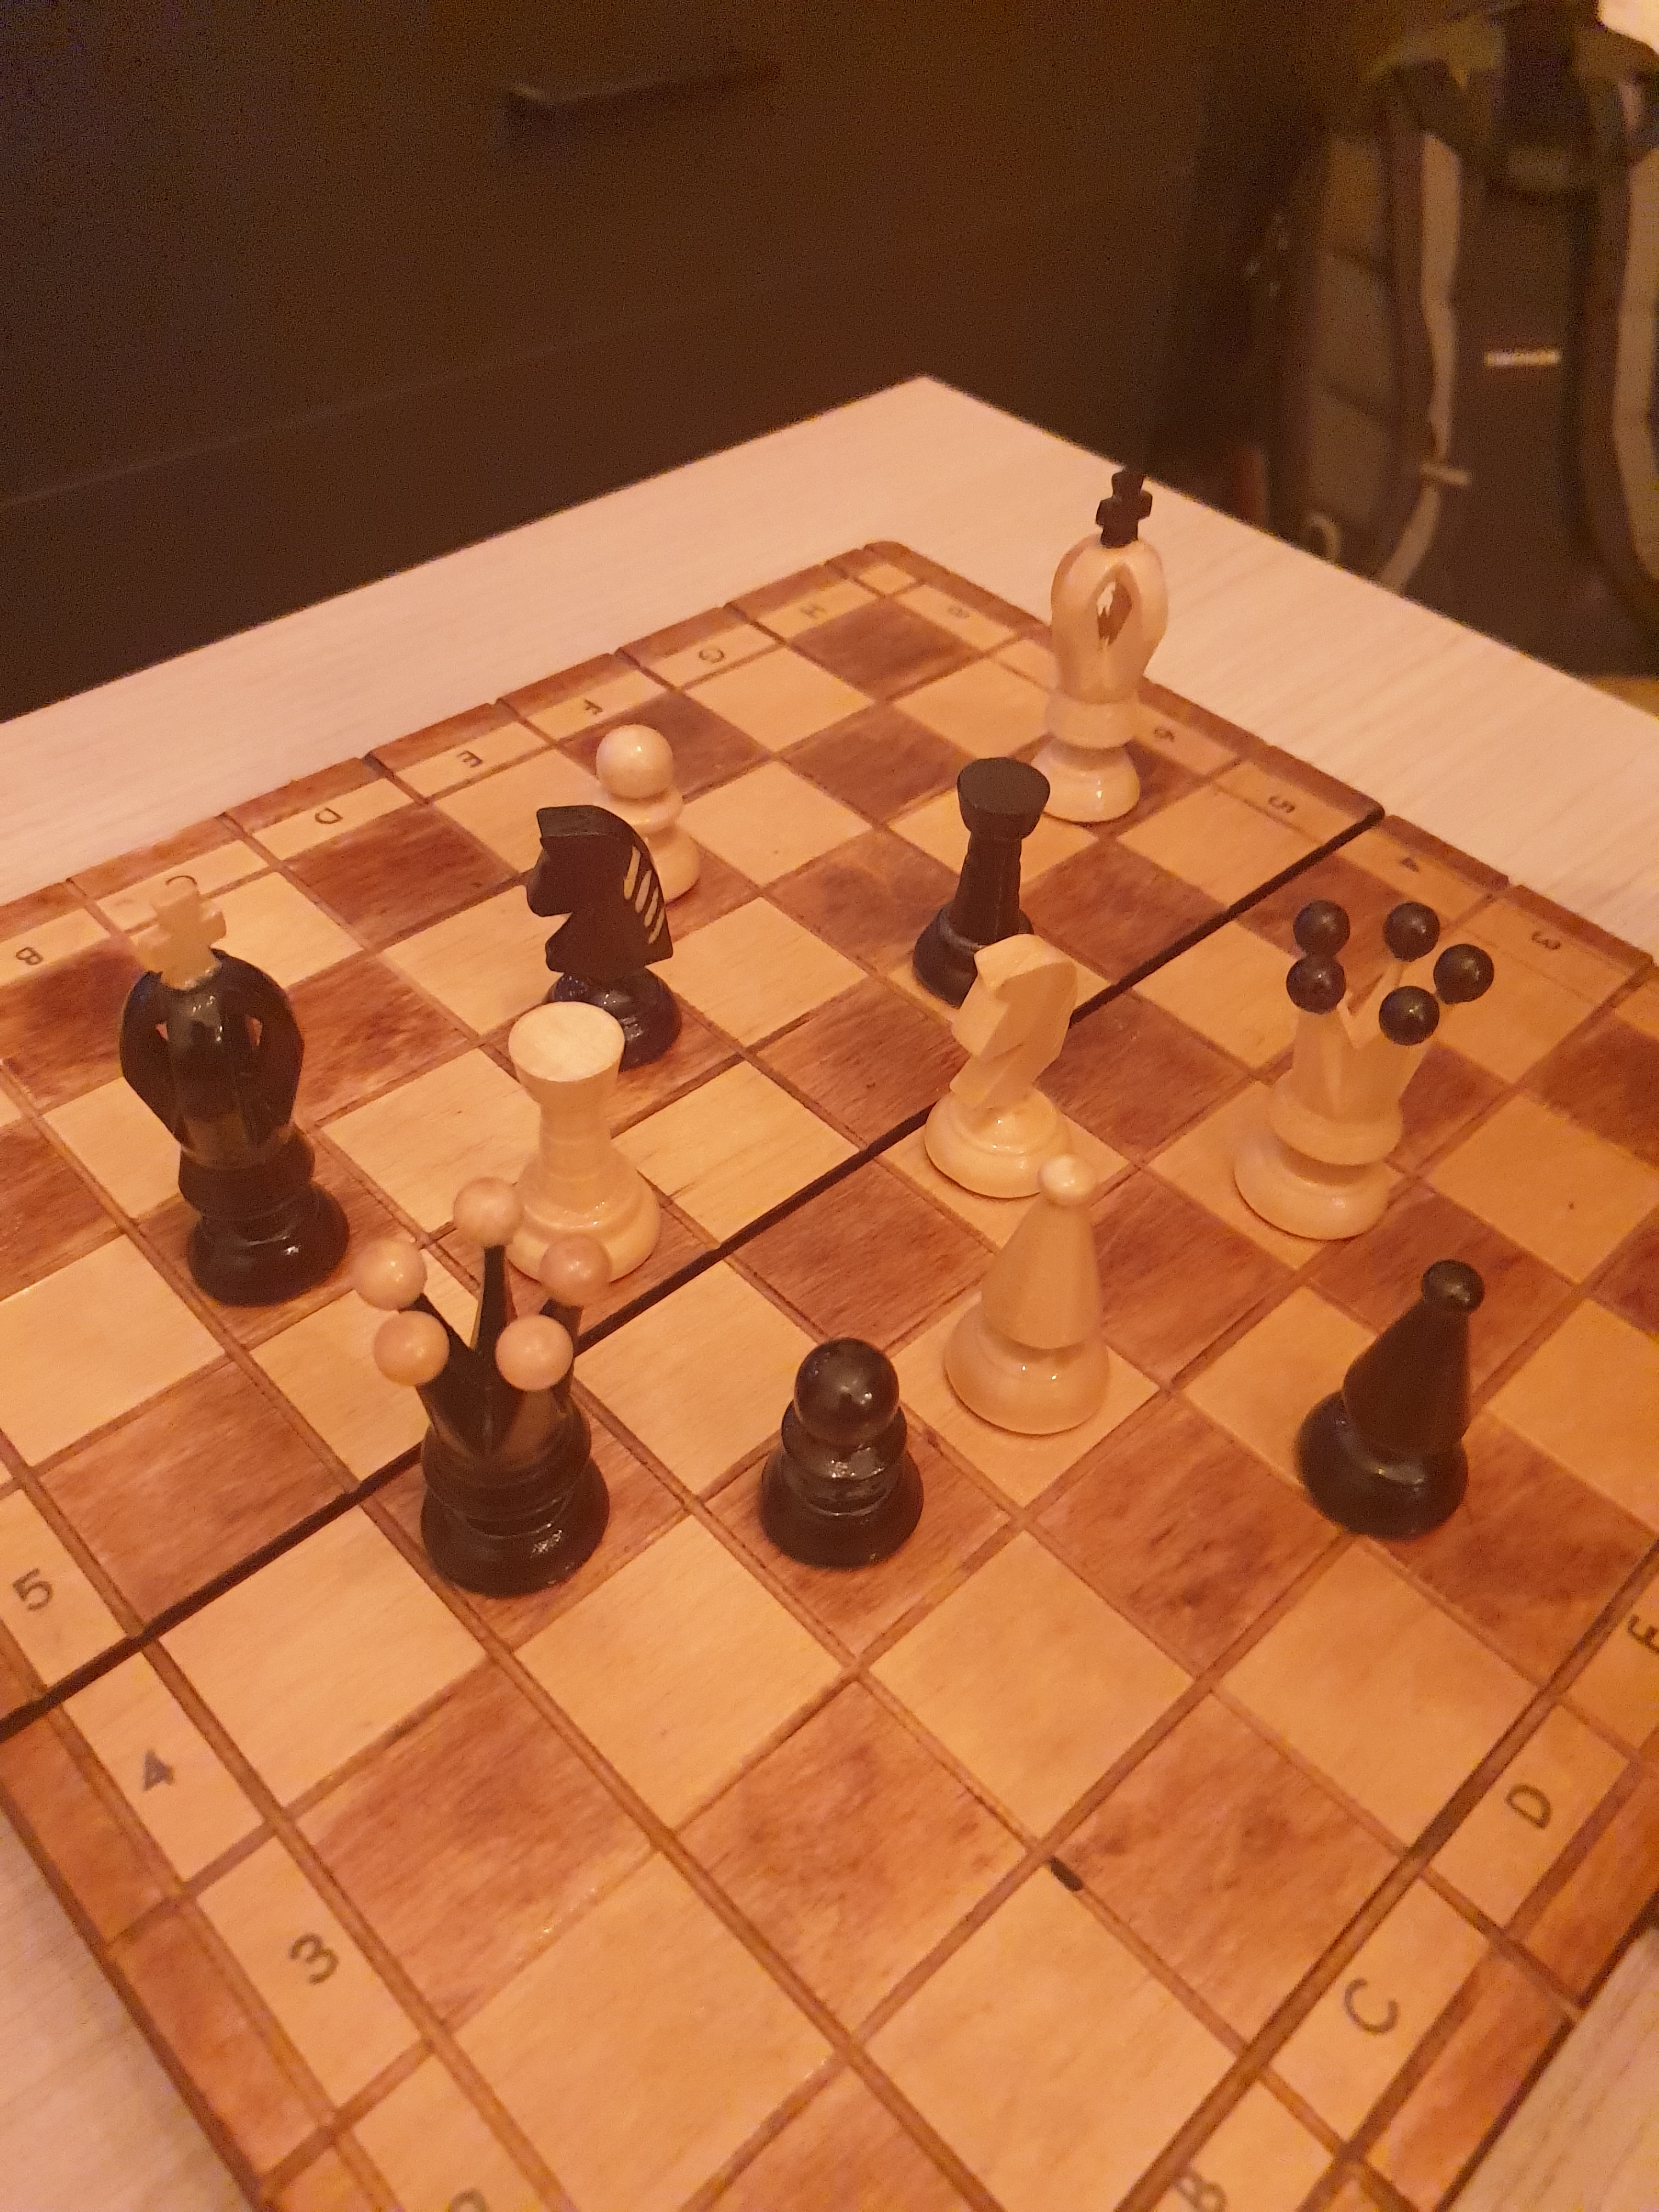bbishop: (1281, 1240, 1497, 1569)
bking: (108, 874, 378, 1341)
bknight: (514, 792, 692, 1082)
bpawn: (735, 1289, 953, 1599)
bqueen: (349, 1158, 650, 1625)
brook: (892, 737, 1063, 1015)
wbishop: (929, 1136, 1159, 1460)
wking: (1018, 449, 1187, 838)
wknight: (910, 918, 1094, 1226)
wpawn: (561, 681, 730, 948)
wqueen: (1216, 873, 1502, 1258)
wrook: (483, 989, 678, 1298)
